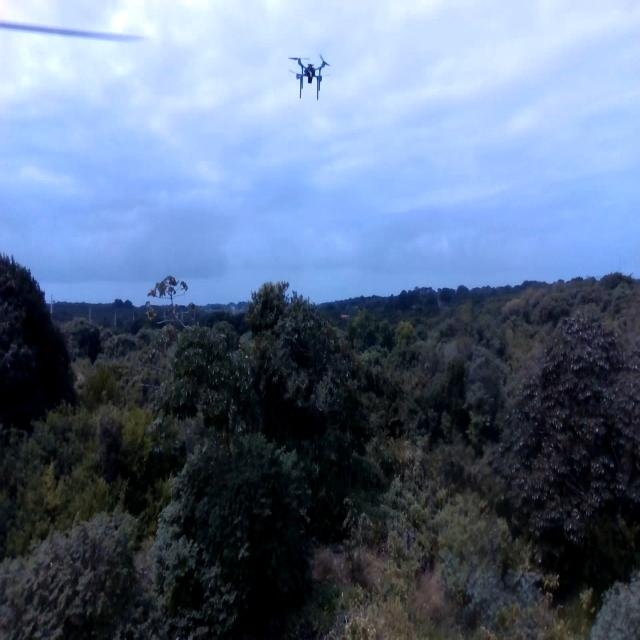-uav-: (286, 41, 344, 120)
